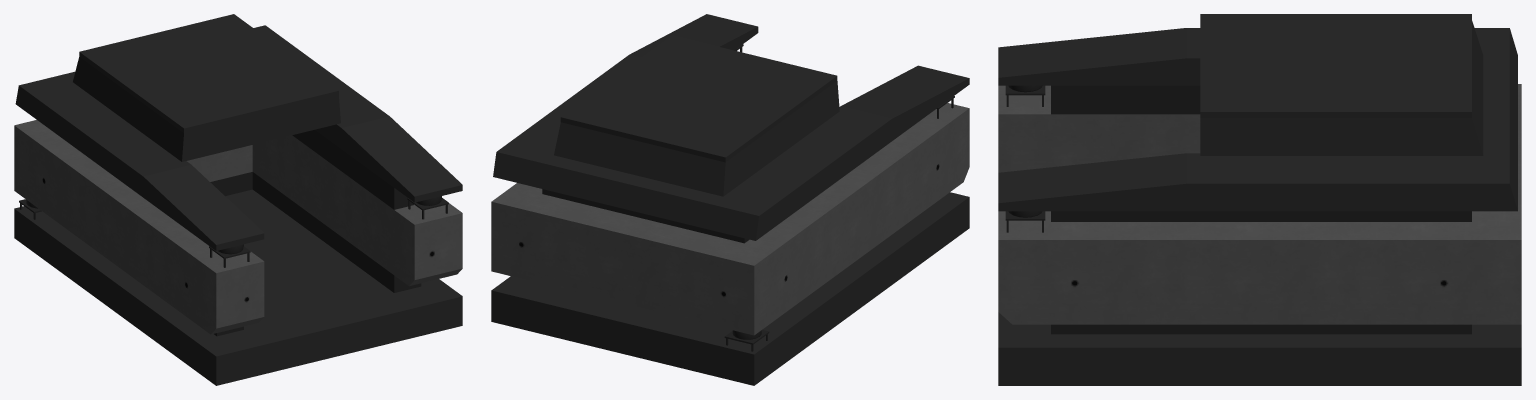
File: serviceRobot.glb
3 renders of one model, left to right at view 1: azimuth 30°, elevation 25°; view 2: azimuth 150°, elevation 25°; view 3: azimuth 270°, elevation 25°, orthographic. The views are drawn at different scales.
Visible parts, largest first — view 1: serviceRobot; view 2: serviceRobot; view 3: serviceRobot.
Part boxes in pixels (x1,y1,x2,y2): serviceRobot: (14,14,462,385); serviceRobot: (491,14,969,385); serviceRobot: (998,14,1521,385).
Size of the model in its own units: 0.9995 by 0.7797 by 1.42.
1 material, 1 textured.
